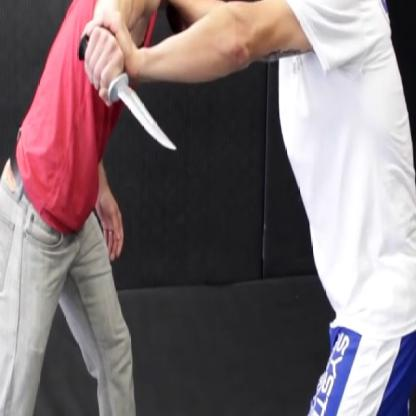knife: (73, 25, 184, 166)
